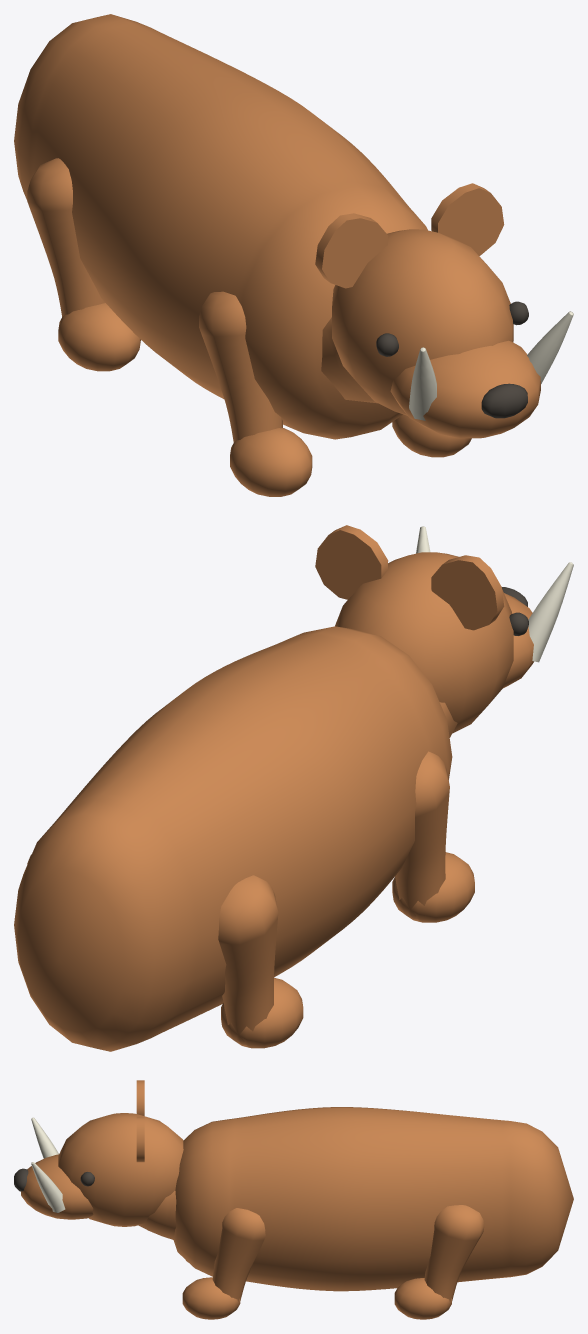
File: rainforest-and-jungle-fauna-red-river-hog-40cf3d92__21671.glb
3 views of the same model, one above another, from view 1: azimuth 30°, elevation 25°; view 2: azimuth 150°, elevation 25°; view 3: azimuth 270°, elevation 25° (orthographic). The views are drawn at different scales.
Visible parts, largest first — view 1: red-river-hog; view 2: red-river-hog; view 3: red-river-hog.
Part boxes in pixels (x1=…): red-river-hog: x1=14, y1=14, x2=573, y2=496; red-river-hog: x1=14, y1=525, x2=573, y2=1051; red-river-hog: x1=14, y1=1080, x2=573, y2=1319.
Bounding box in the file's own units: 0.4233 × 0.5313 × 1.4.
